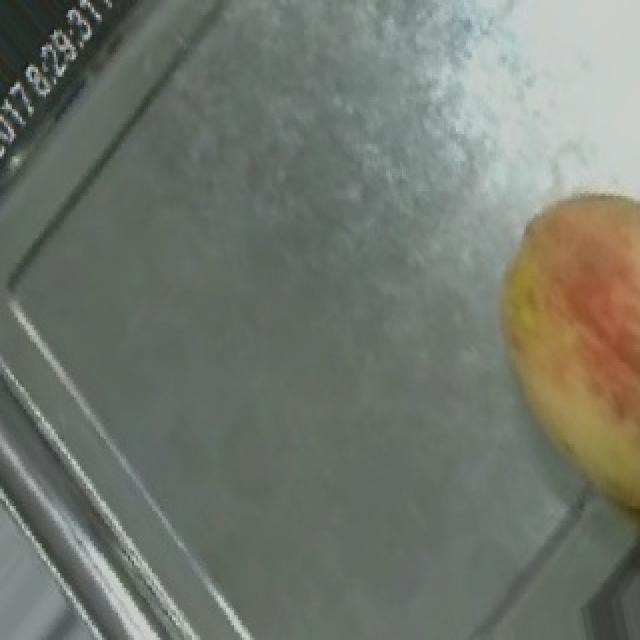Fruit: (454, 174, 640, 543)
